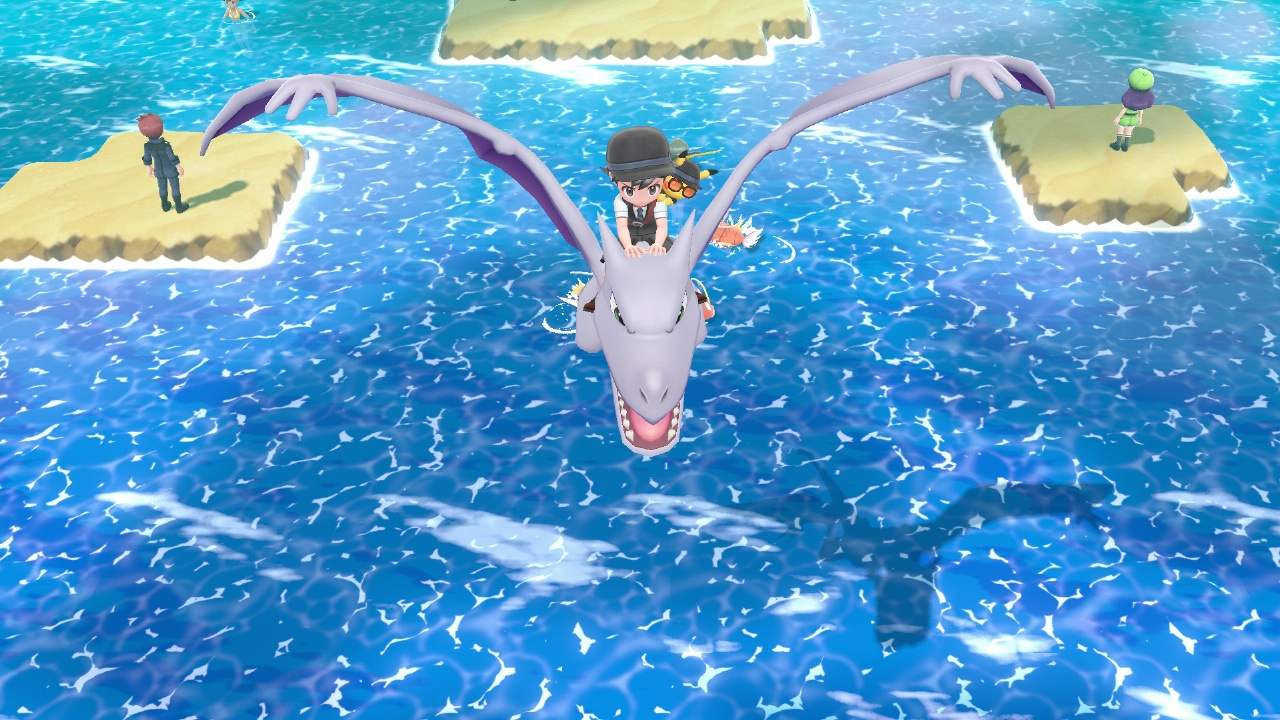Red: (708, 216, 761, 249)
